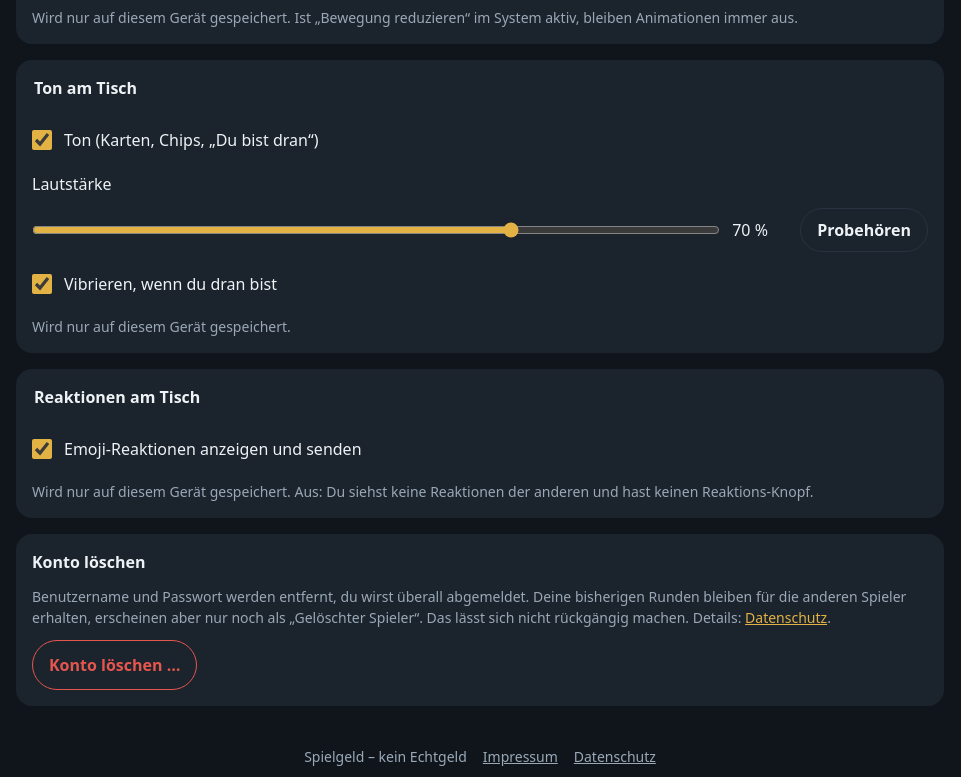
Konto löschen › verlangt das Passwort, ohne den Server zu fragen
This screenshot has width=961, height=777.
(page scrolled)
Click the button "Konto löschen …": (115, 665) [32,640,197,690]
(page scrolled)
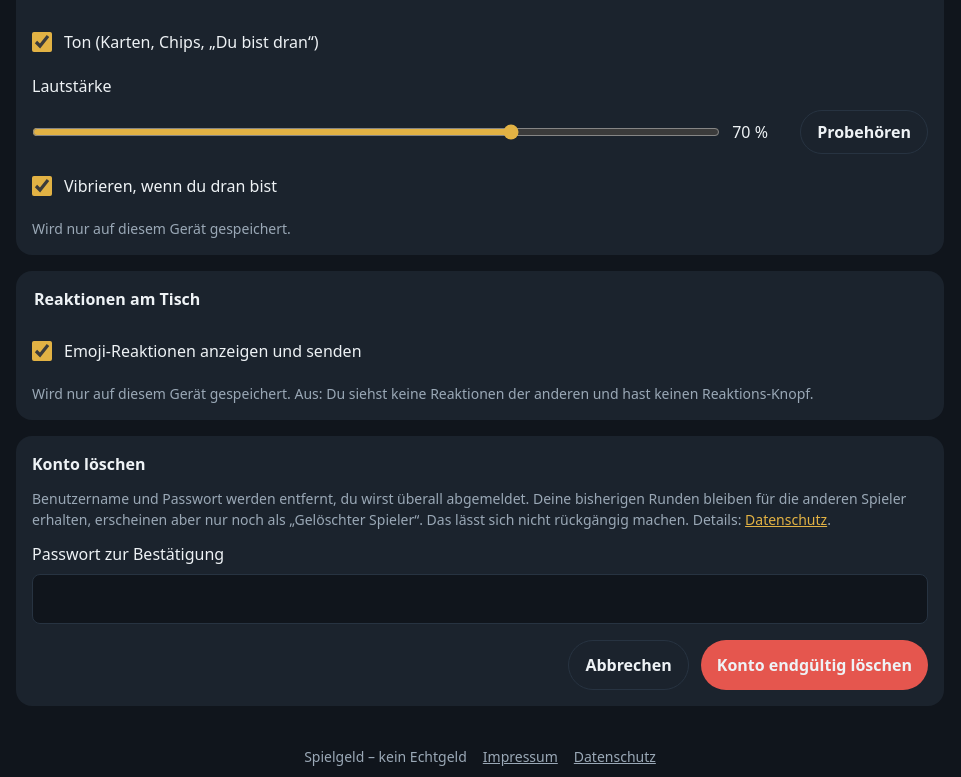
Click the button "Konto endgültig löschen": (814, 665) [701,640,928,690]
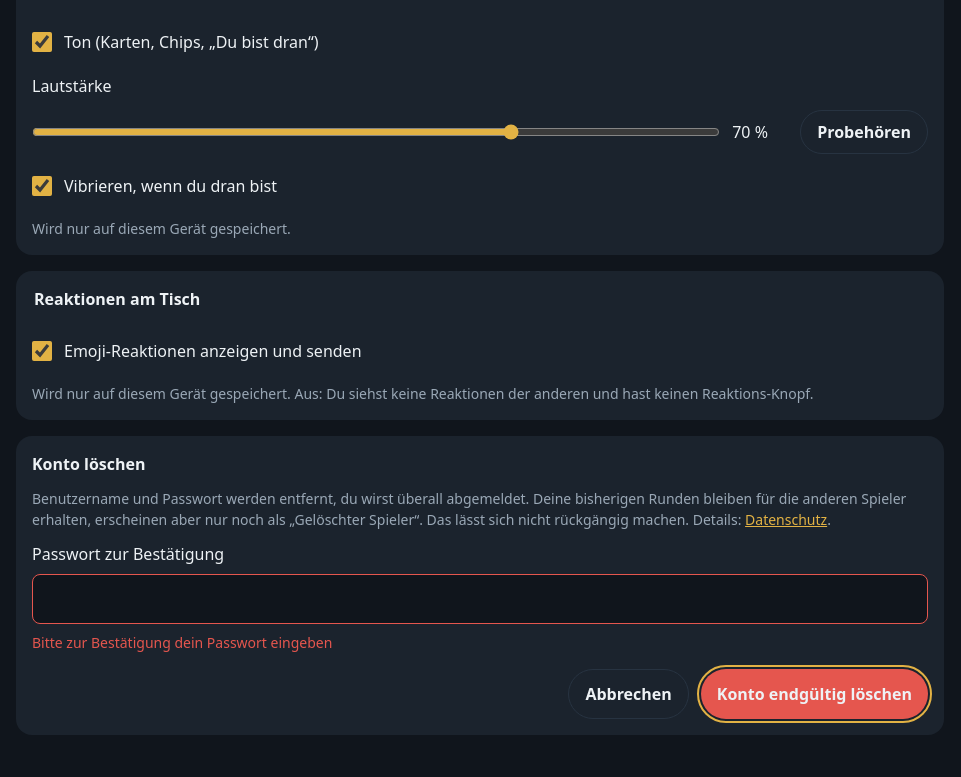
Now the message shows "Passwort", box [32,633,332,652]
